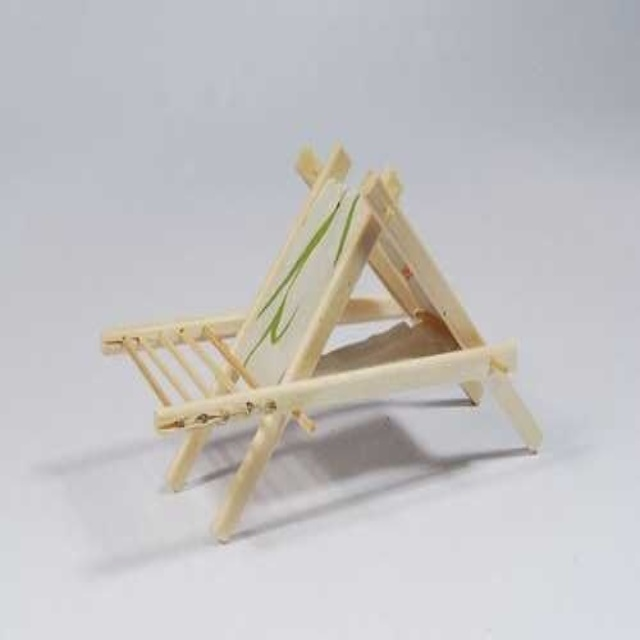obstacle: (102, 144, 541, 540)
